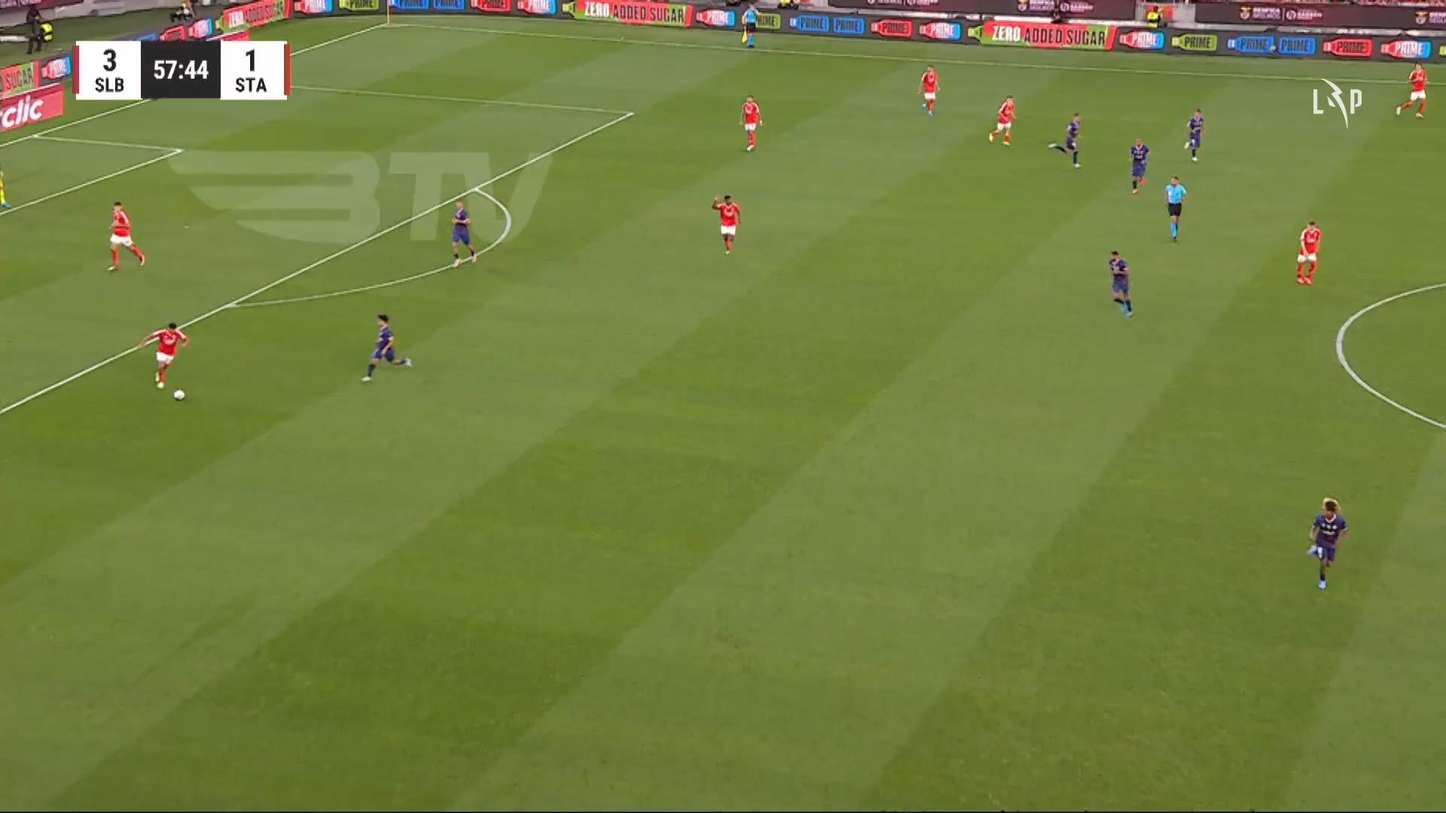ball: (172, 389, 185, 400), (404, 358, 411, 367)
player: (1306, 495, 1347, 589), (360, 313, 411, 382), (138, 321, 188, 389), (106, 200, 145, 271), (1394, 60, 1429, 118), (1048, 111, 1083, 167), (450, 199, 477, 267), (711, 193, 741, 254), (1295, 220, 1322, 285), (1108, 249, 1133, 318), (988, 95, 1017, 145), (740, 94, 763, 152), (917, 64, 940, 117), (1129, 136, 1149, 194), (1183, 108, 1204, 162), (1065, 111, 1082, 167)
referee: (1164, 175, 1186, 242), (740, 2, 758, 47)
